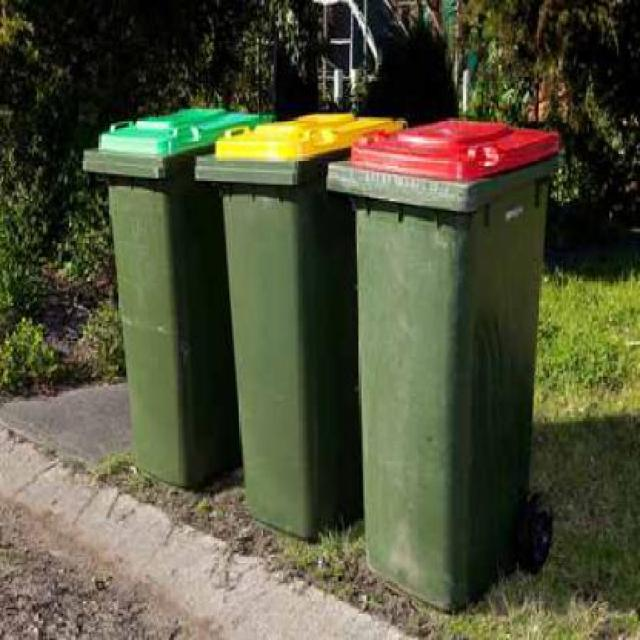garbage container: (321, 113, 567, 624), (191, 108, 364, 575), (77, 99, 245, 501)
